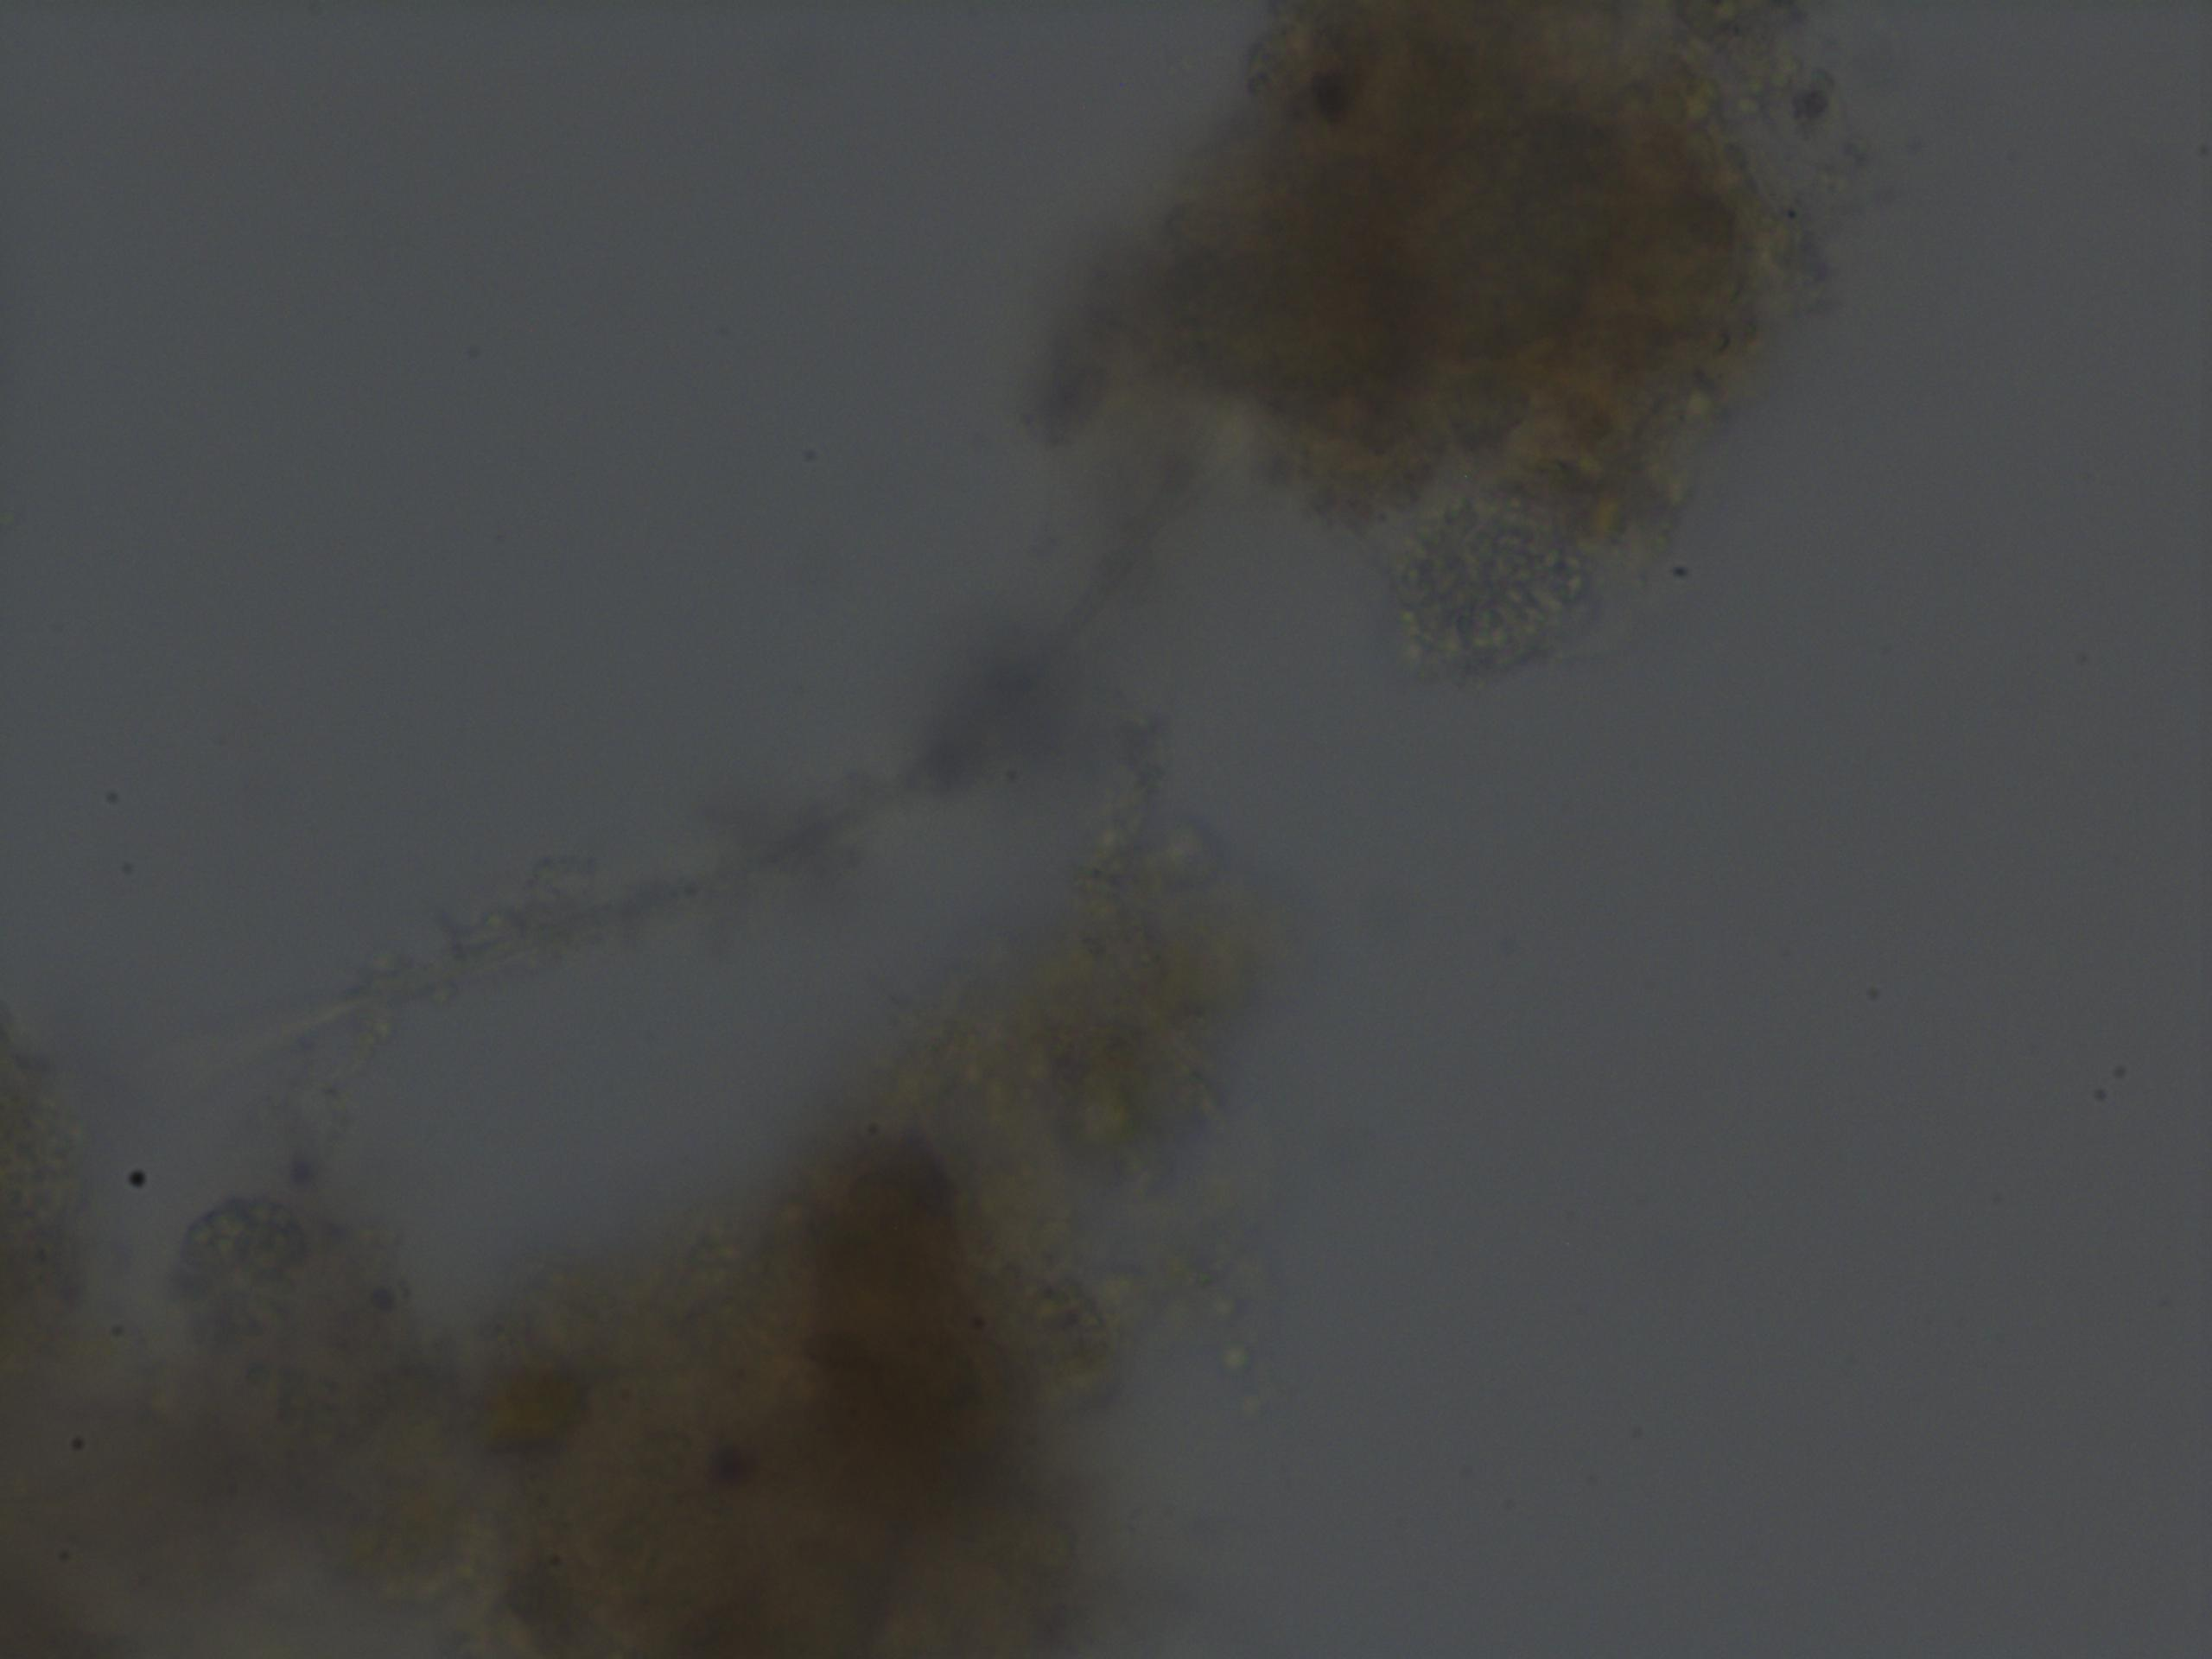filament: (200, 432, 1207, 1089)
